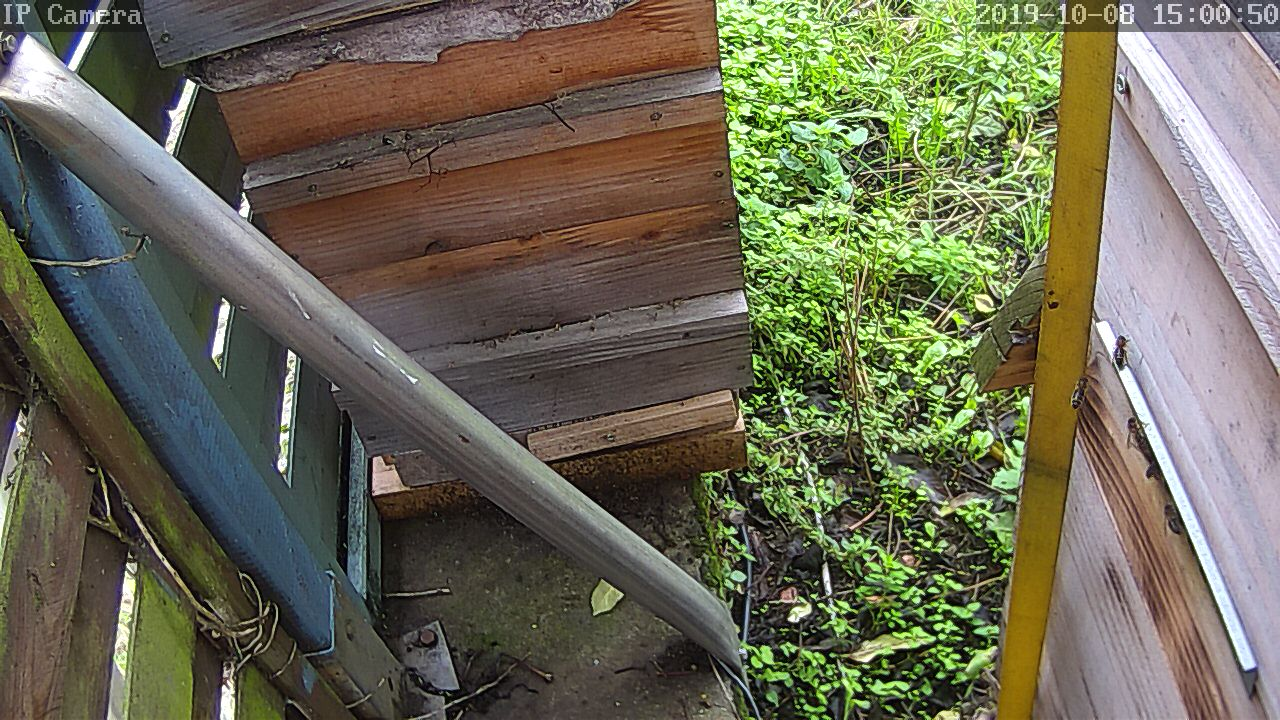bee: (1156, 507, 1196, 542), (1110, 323, 1137, 374), (1064, 367, 1093, 414), (1119, 425, 1145, 460)
